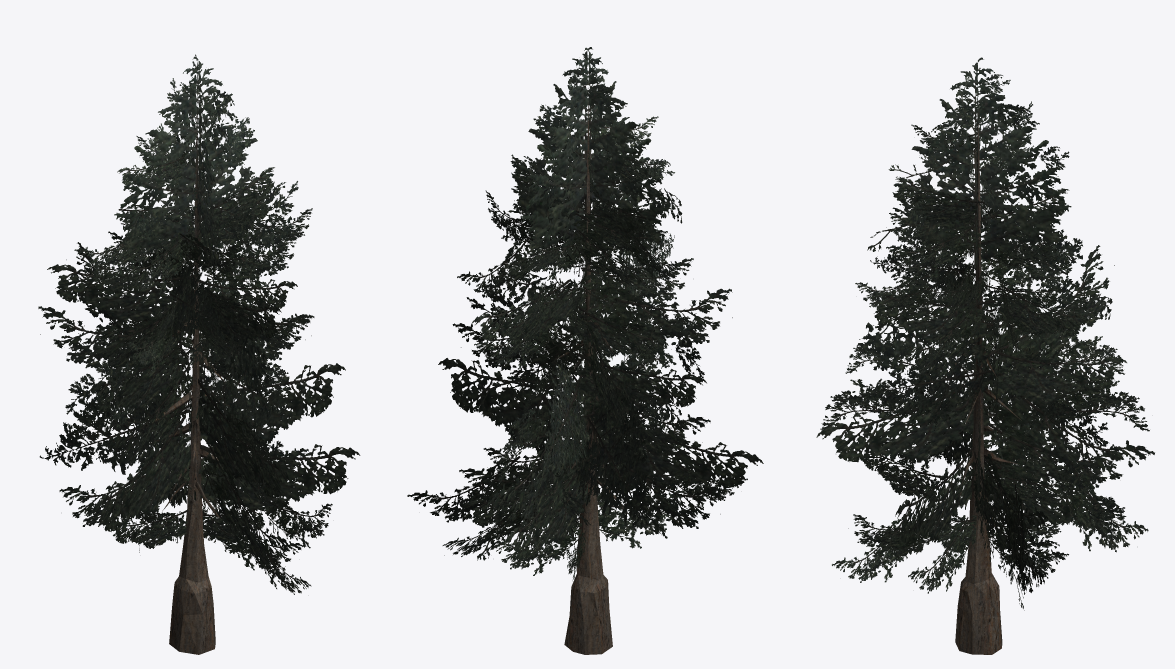
Rendered from forest_oak_mid.glb.
The picture shows the model from 3 angles, left to right: view 1: azimuth 30°, elevation 25°; view 2: azimuth 150°, elevation 25°; view 3: azimuth 270°, elevation 25°; orthographic projection.
Bounding box in the file's own units: 3.29 × 6.04 × 3.29.
2 materials, 2 textured.
